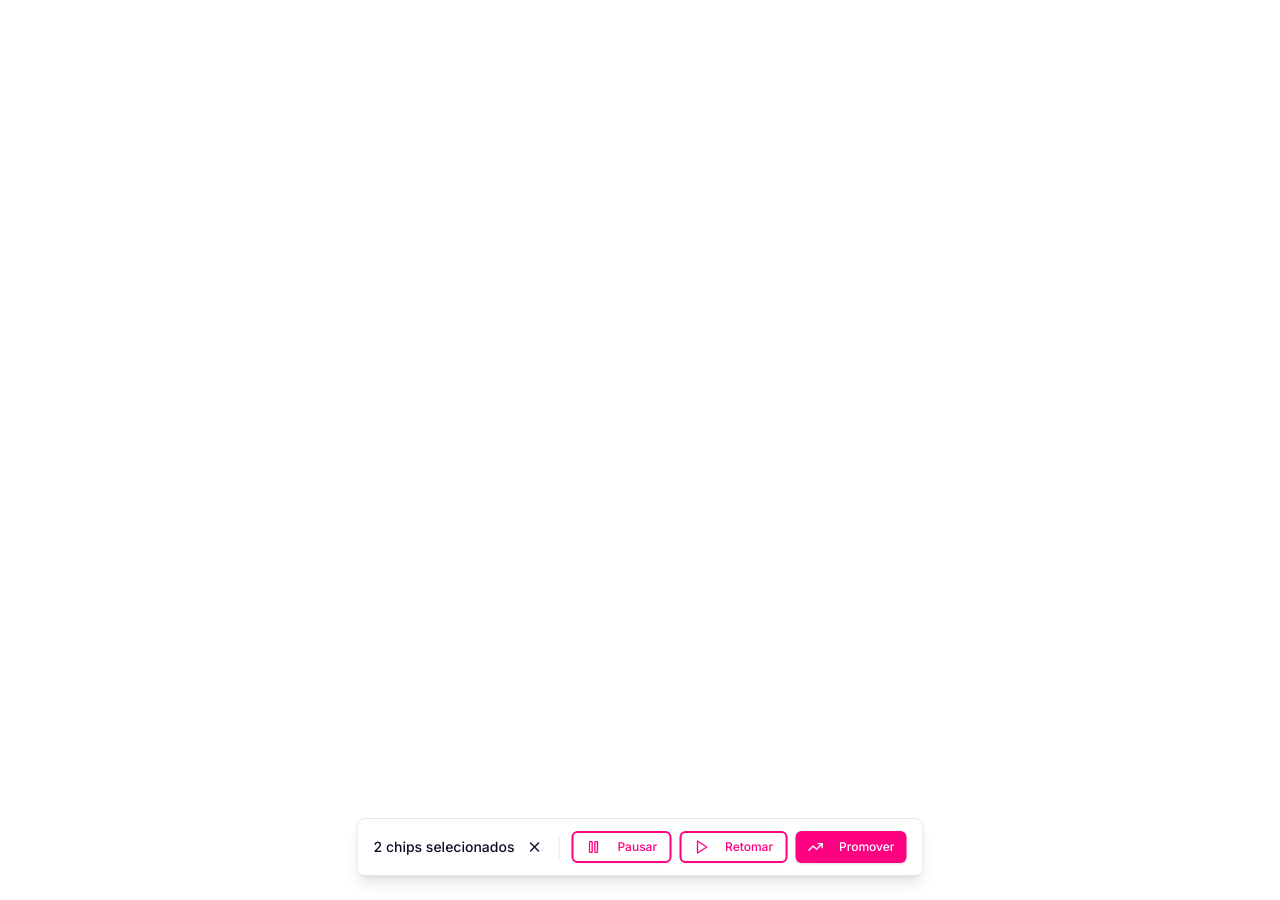
Test: ChipsBulkActions › confirmation dialogs › should show resume confirmation dialog
Click the button "Retomar".
click(733, 847)  # box [679,831,787,863]
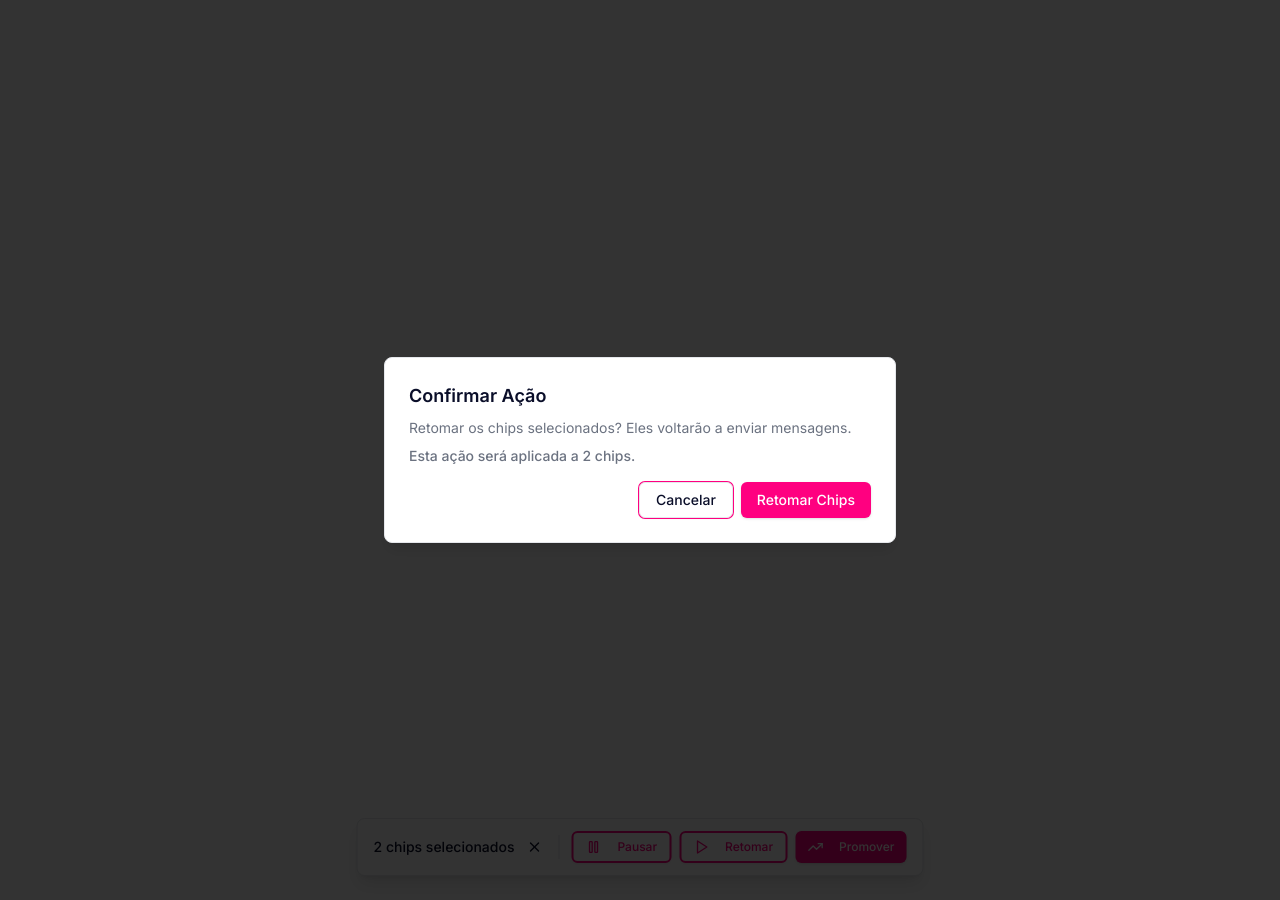
expect the heading "Confirmar Ação" is shown: met, box [409,385,546,406]
expect the text "Retomar os chips selecionados" is shown: met, box [409,419,852,436]
